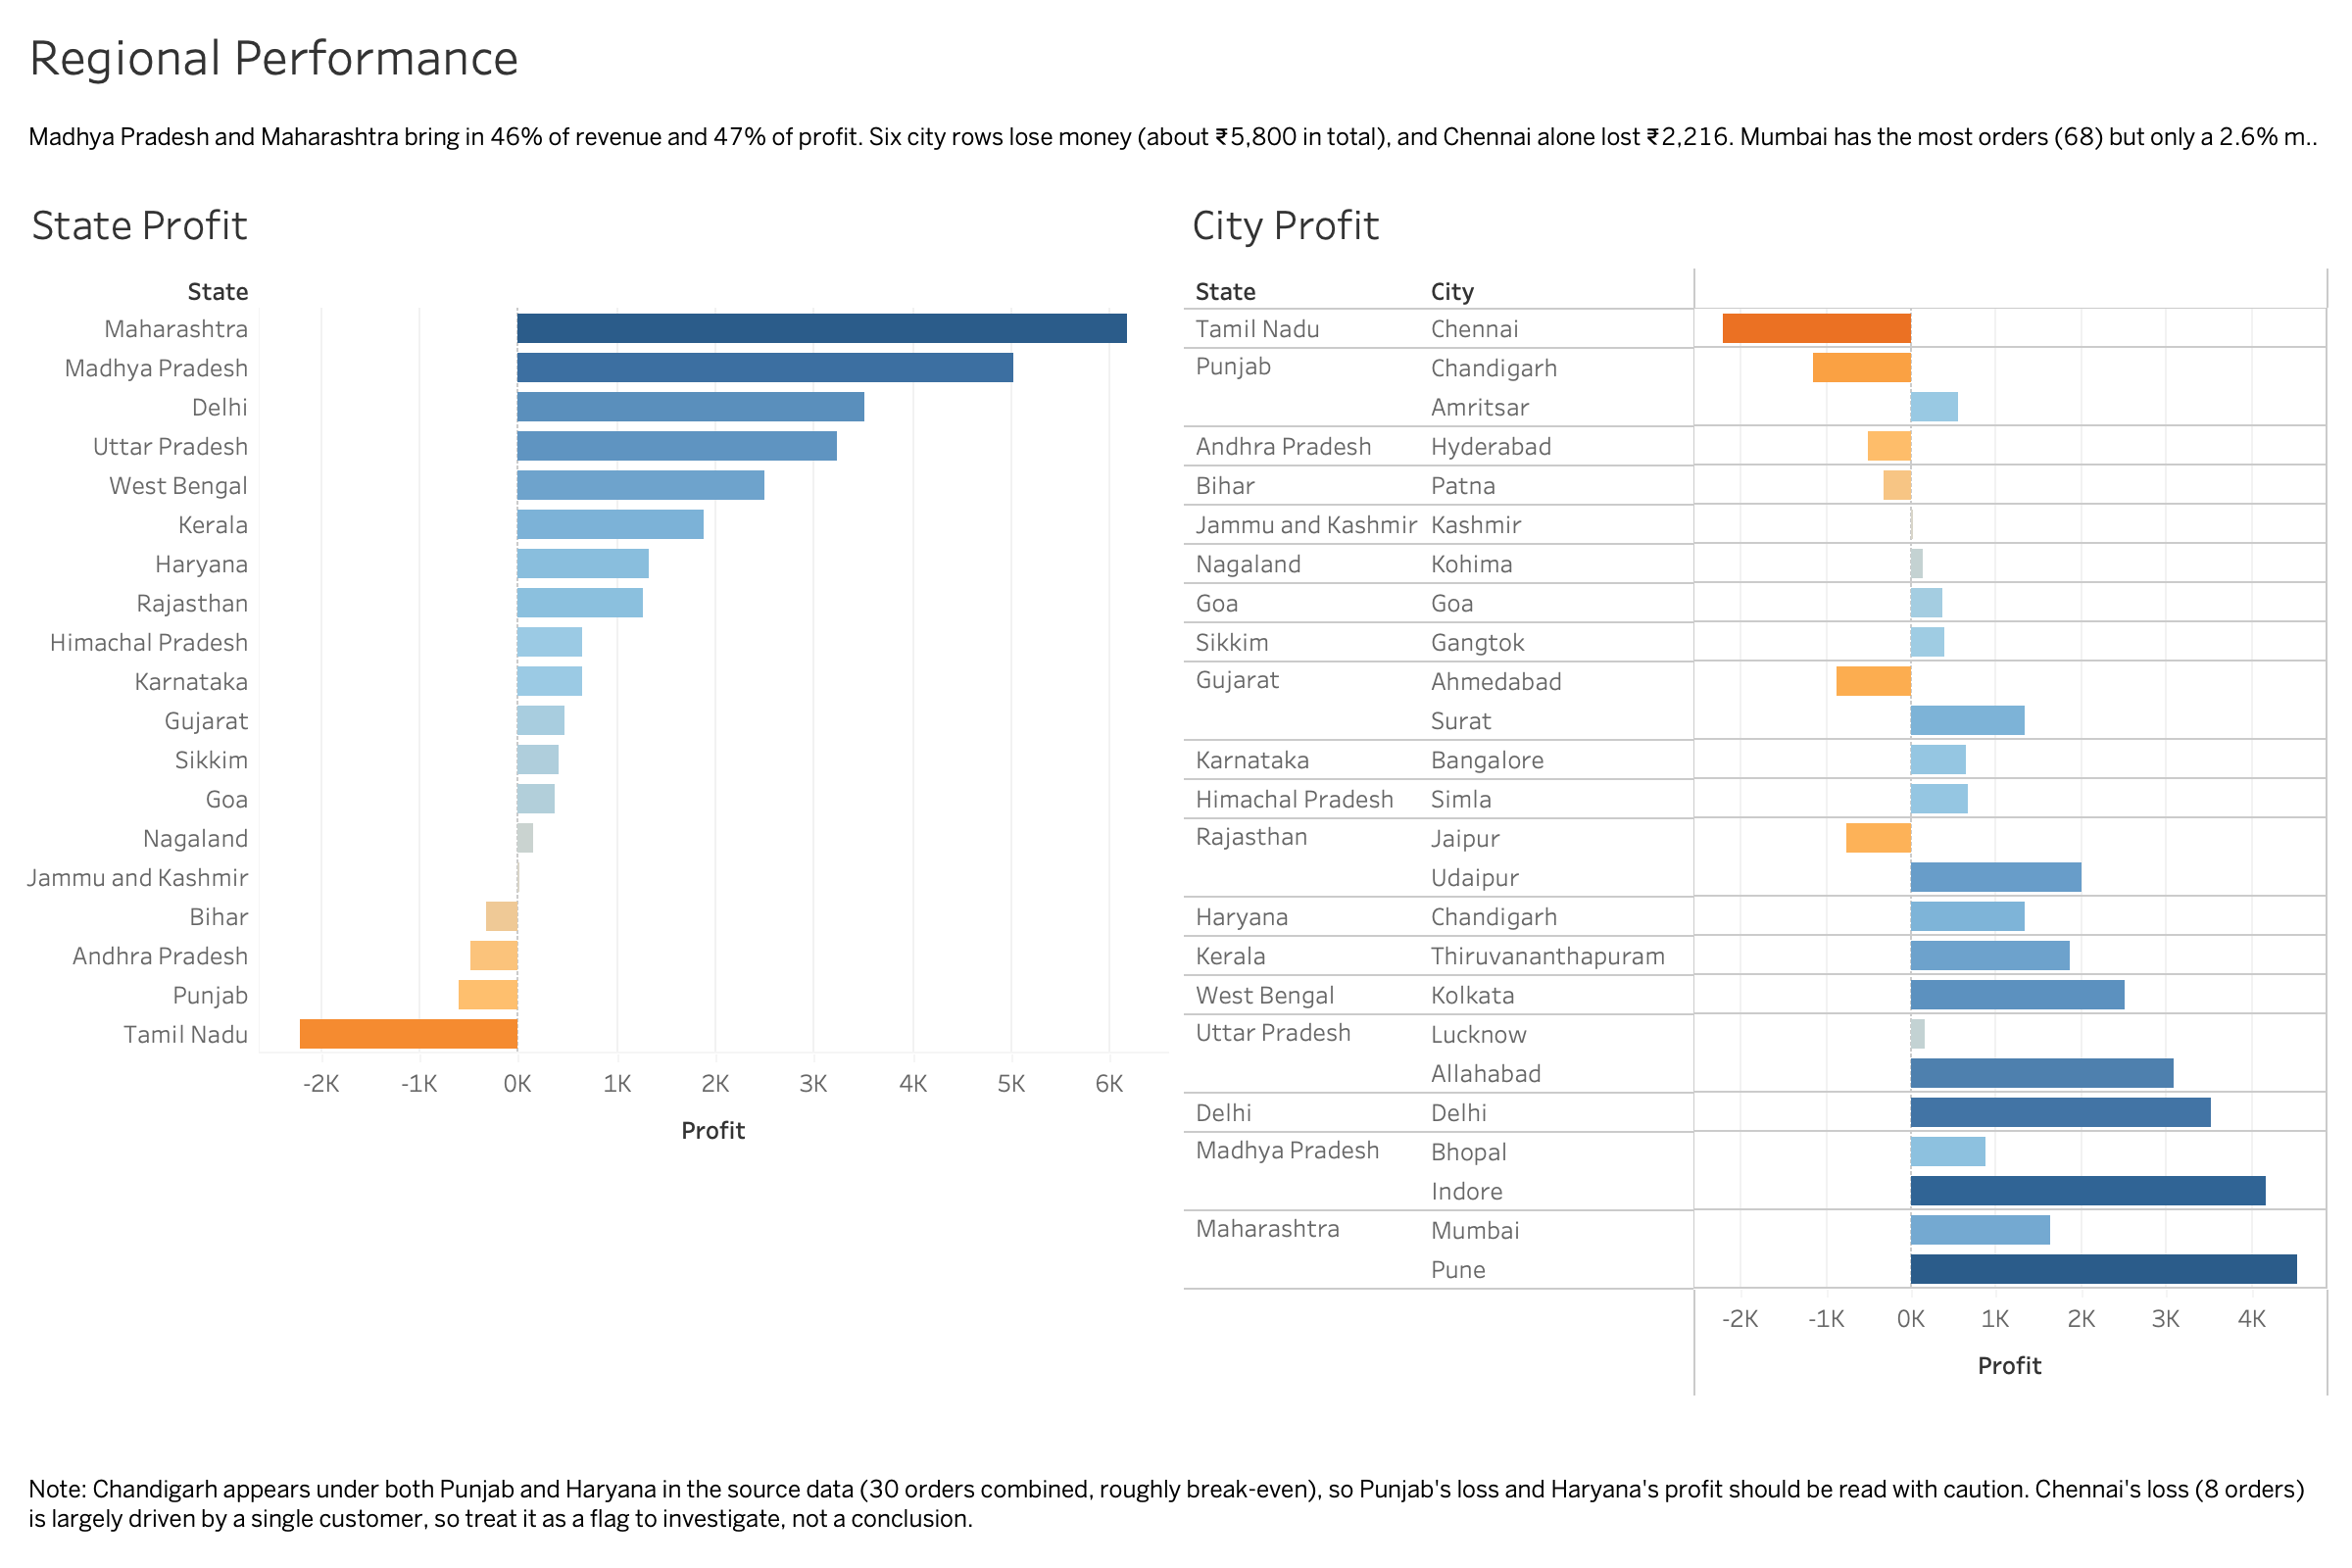

What the dashboard file says about the page in this screenshot:
{"tool":"tableau","page":{"name":"Regional Performance","canvas":[1200,800],"ordinal":2},"visuals":[{"type":"title","box":[8,8,1184,42]},{"type":"text","box":[8,50,1184,40]},{"type":"worksheet","title":"State Profit","mark":"Automatic","rows":["state"],"cols":["profit"],"box":[8,90,592,654.3]},{"type":"worksheet","title":"City Profit","mark":"Automatic","rows":["state","city"],"cols":["profit"],"box":[600,90,592,654.3]},{"type":"text","box":[8,744.3,1184,47.7]}]}

Visuals, with their boxes in screenshot pixels (x1, y1, x2, y2), scaled from the page's 1200x800 canvas onto the 2352x1568 screenshot:
title: 16 16 2336 98
text: 16 98 2336 176
"State Profit" worksheet: 16 176 1176 1459
"City Profit" worksheet: 1176 176 2336 1459
text: 16 1459 2336 1552
